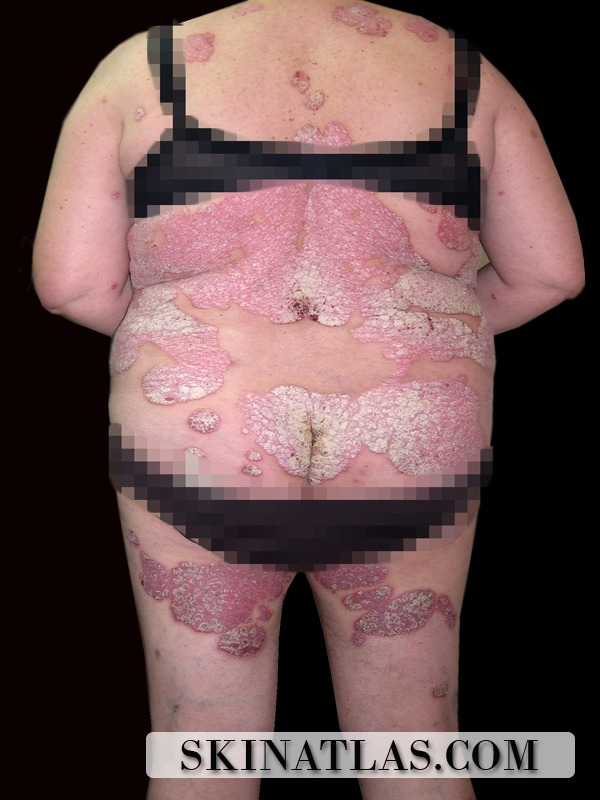Psoriasis: (117, 197, 483, 328), (249, 378, 493, 497), (123, 552, 292, 655), (106, 296, 225, 402), (355, 308, 509, 376), (333, 584, 461, 651), (281, 110, 367, 157), (323, 0, 400, 51), (314, 548, 395, 595), (433, 212, 485, 264), (183, 398, 233, 451), (181, 22, 225, 67), (287, 66, 322, 104), (301, 84, 333, 115)
